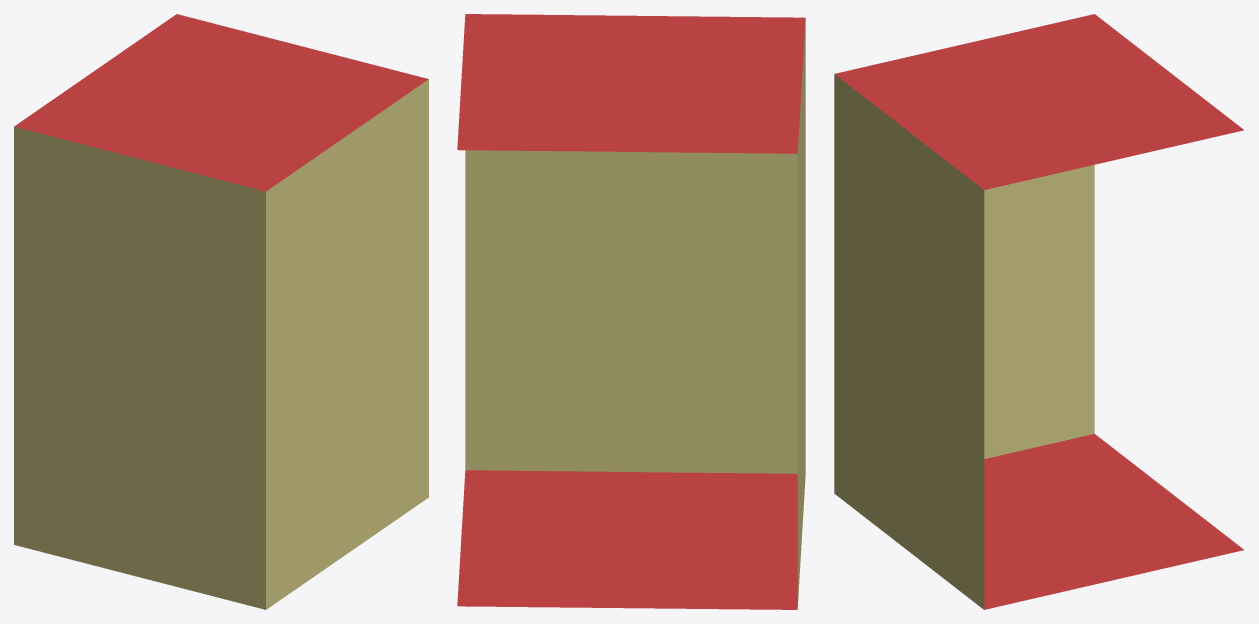
The picture shows the model from 3 angles, left to right: view 1: azimuth 30°, elevation 25°; view 2: azimuth 150°, elevation 25°; view 3: azimuth 270°, elevation 25°; orthographic projection. The views are drawn at different scales.
Bounding box in the file's own units: 4.55 × 4.47 × 5.05.
